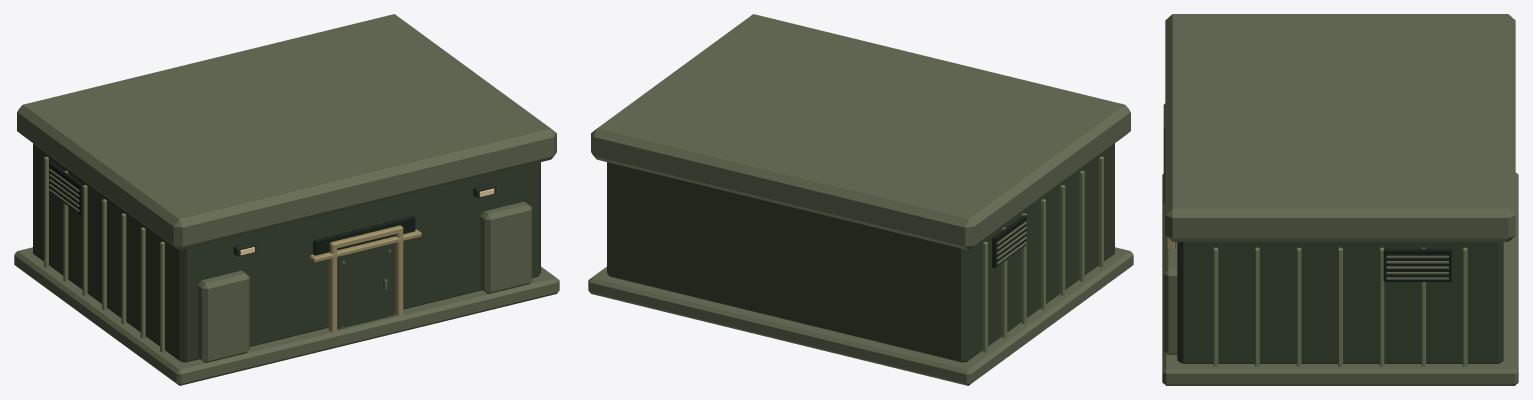
The model's file is BunkerAuthored.obj.
The picture shows the model from 3 angles, left to right: view 1: azimuth 30°, elevation 25°; view 2: azimuth 150°, elevation 25°; view 3: azimuth 270°, elevation 25°; orthographic projection. The views are drawn at different scales.
Visible parts, largest first — view 1: BunkerAuthored; view 2: BunkerAuthored; view 3: BunkerAuthored.
Boxes of the visible parts, bbox=[...] form: BunkerAuthored: bbox=[14, 14, 559, 385]; BunkerAuthored: bbox=[588, 14, 1133, 385]; BunkerAuthored: bbox=[1162, 14, 1518, 385].
Bounding box in the file's own units: 8 × 3.27 × 6.
1 material, 1 textured.
